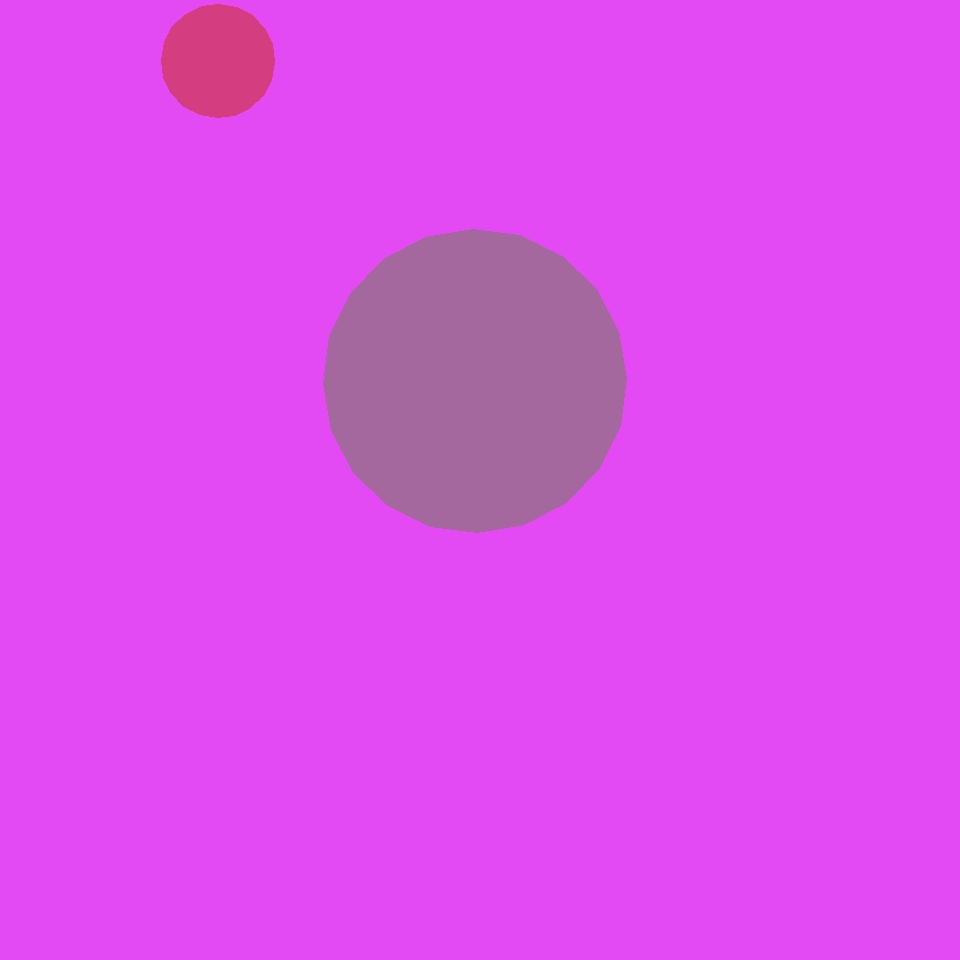square: (402, 496, 646, 740), (229, 732, 408, 911)
triangle: (324, 229, 626, 532), (149, 429, 416, 696), (391, 402, 539, 550), (162, 4, 274, 118)
